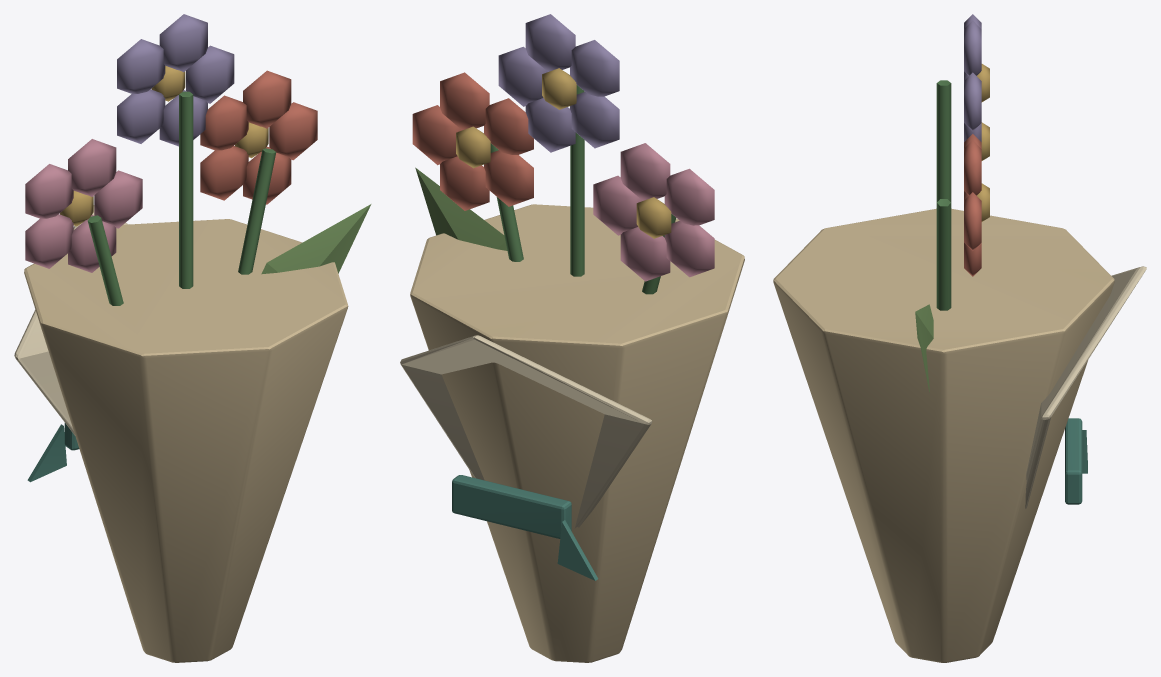
The model's file is bouquet.glb.
The picture shows the model from 3 angles, left to right: view 1: azimuth 30°, elevation 25°; view 2: azimuth 150°, elevation 25°; view 3: azimuth 270°, elevation 25°; orthographic projection. The views are drawn at different scales.
Size of the model in its own units: 0.26 by 0.4825 by 0.2595.
